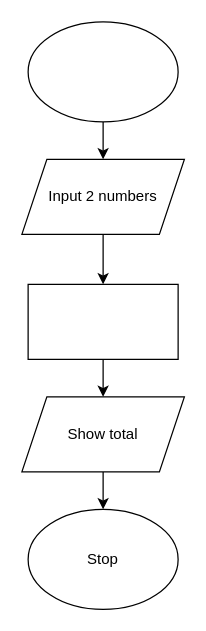
Some shapes in this 206 by 631 pixel diagram are drawn without their labels. Here are the shapes that lost their labels. From the top down, the centre of each, then its label:
At point (102, 71): "Start".
At point (102, 321): "total = first number + second number".
